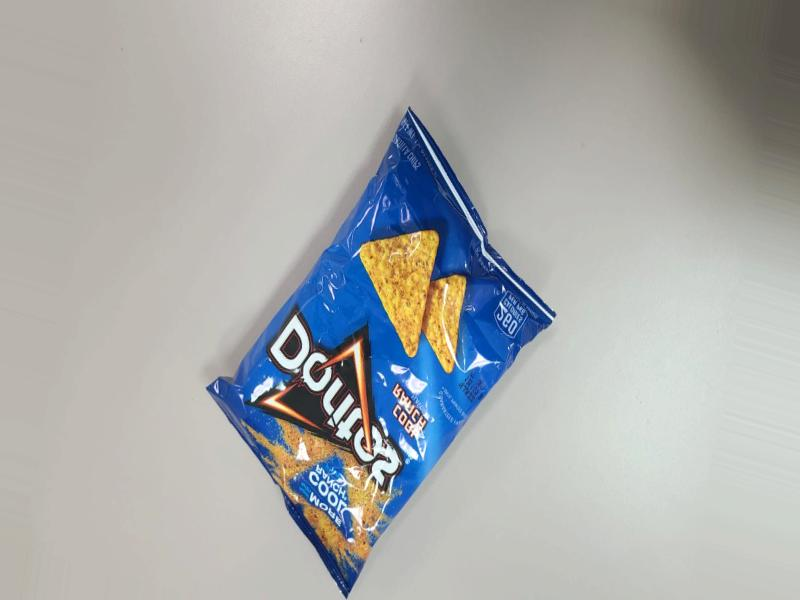doritos: (218, 132, 544, 600)
